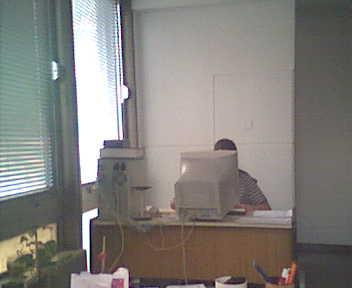person: (169, 139, 272, 213)
